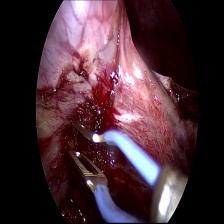Bipolar: (64, 117, 190, 224)
